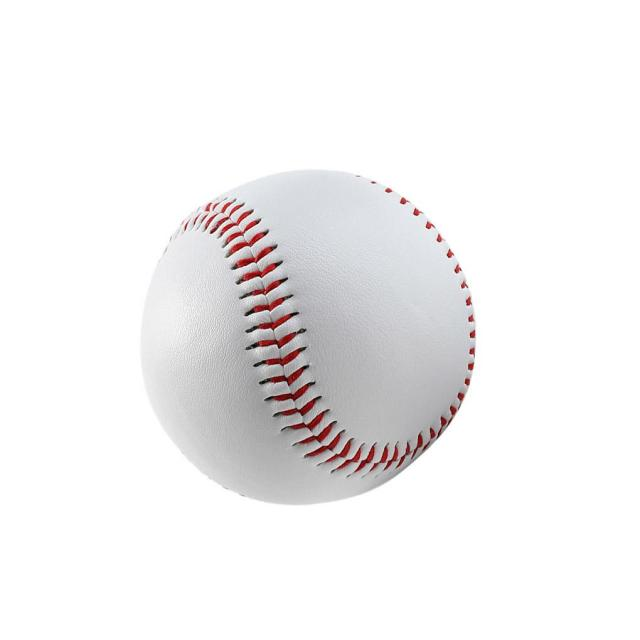baseball: (141, 170, 477, 505)
